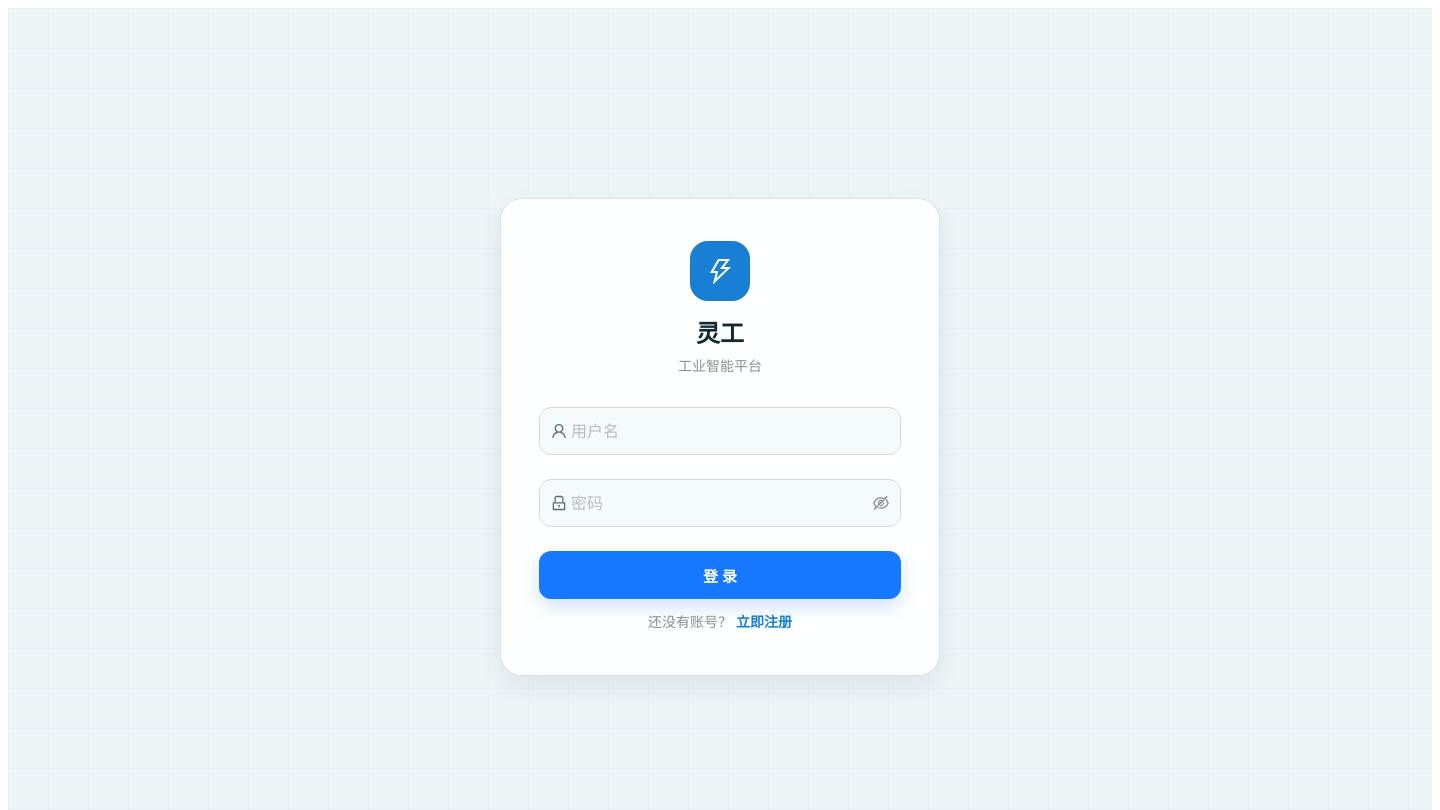
Test: LoginPage › does not report a rate limit as a bad password
Type "admin" into the field with placeholder "用户名" at coordinates (730, 431), box [571,415,889,447]
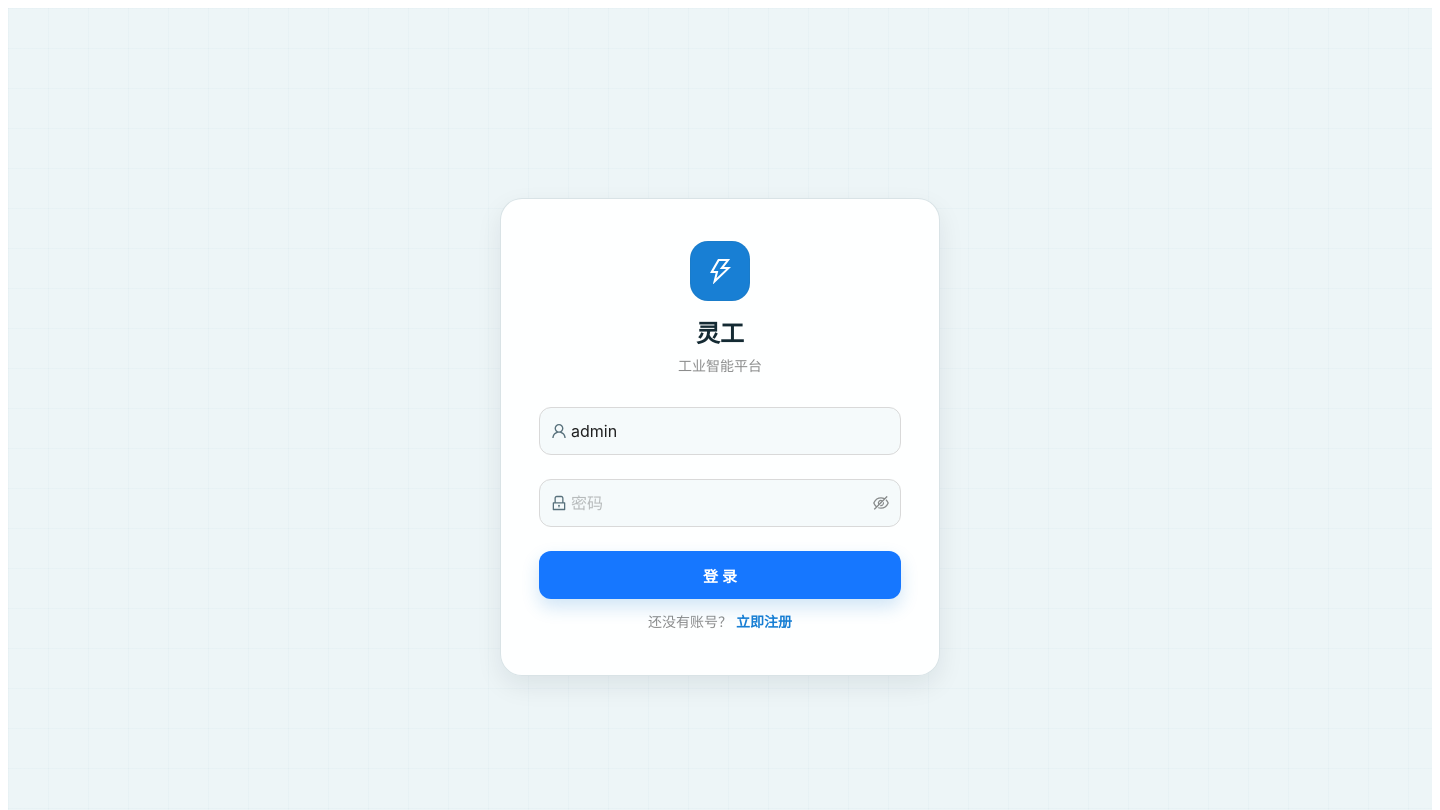
Type "admin123" into the password field with placeholder "密码" at coordinates (720, 503), box [571,487,869,519]
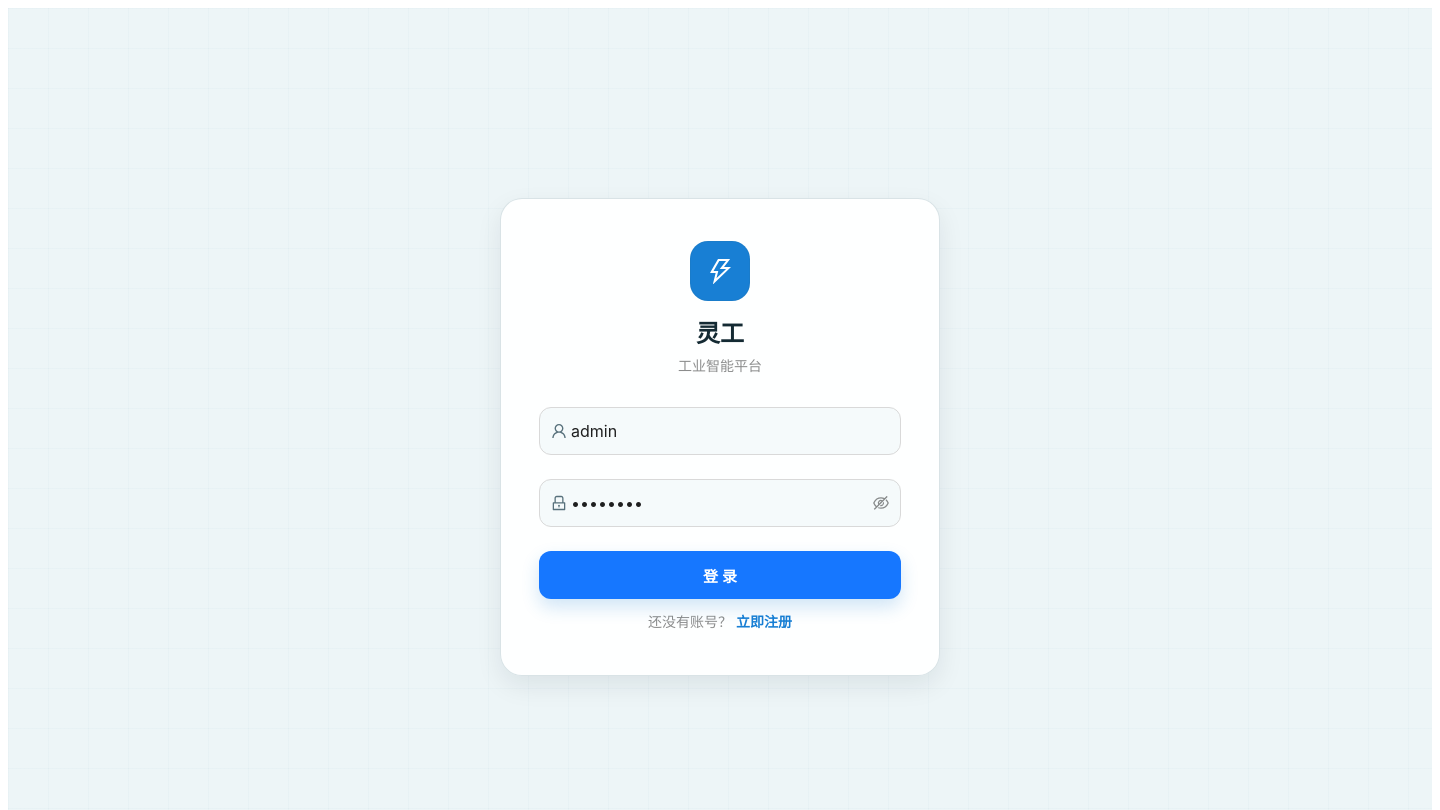
Click the button "登 录" at coordinates (720, 575), box [539,551,901,599]
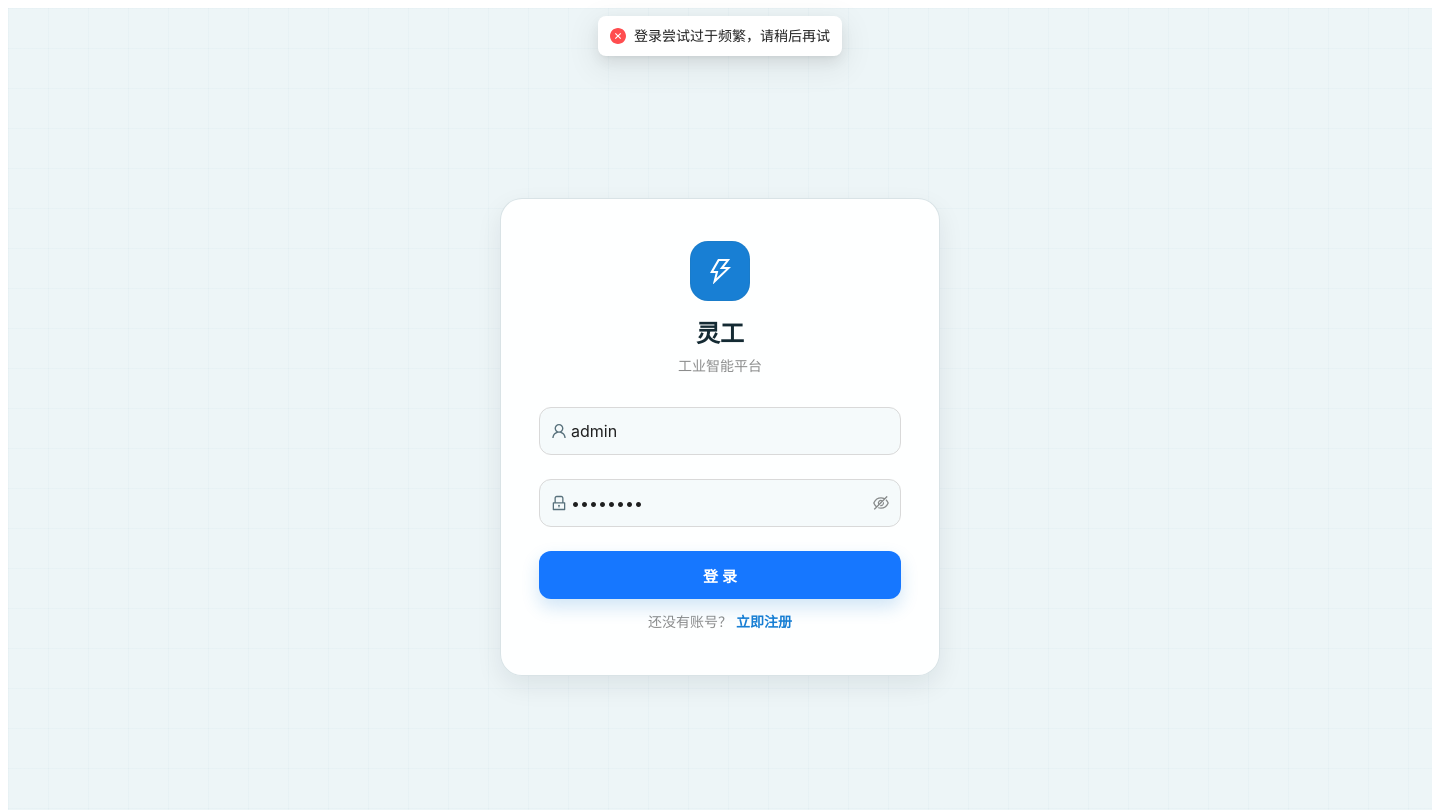
Check: the text "登录尝试过于频繁，请稍后再试" is shown, box [634,25,830,47]
